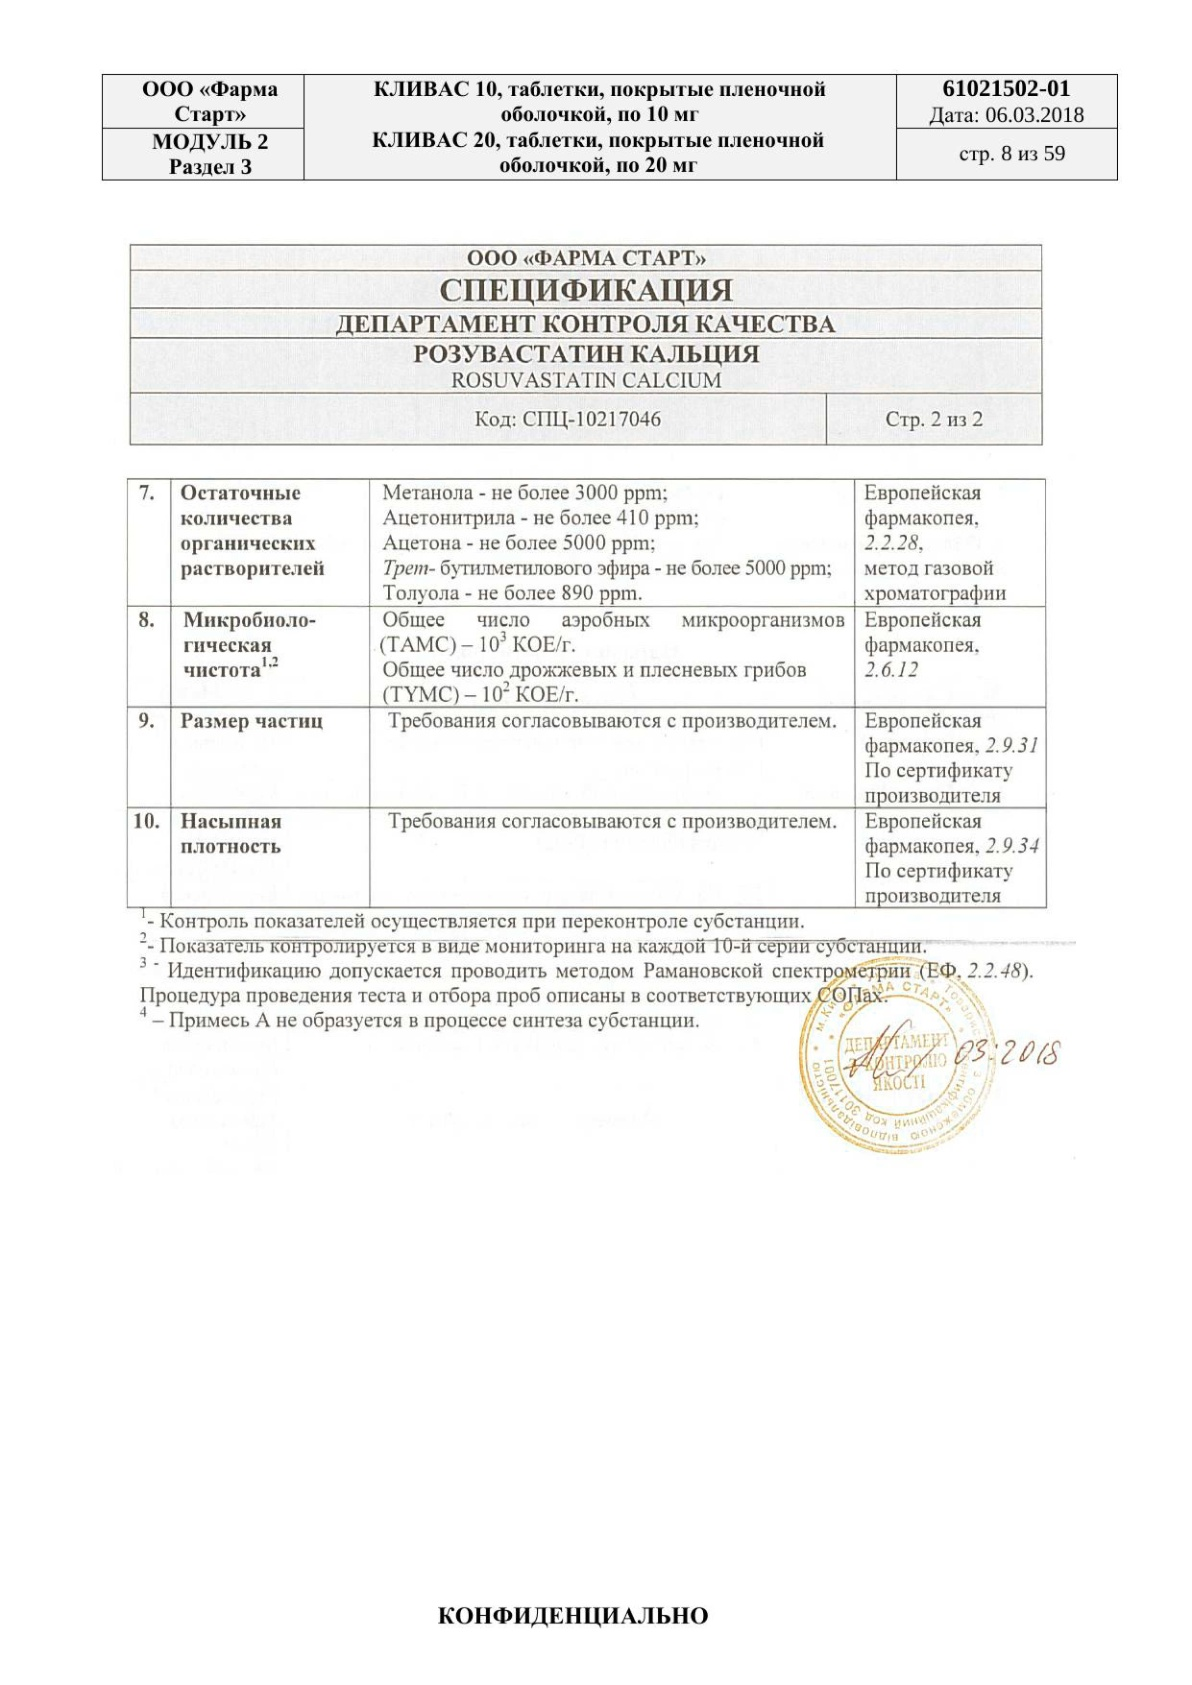full_lined: (126, 477, 1048, 910)
merged_cells: (128, 243, 1042, 446), (101, 74, 1118, 182)
